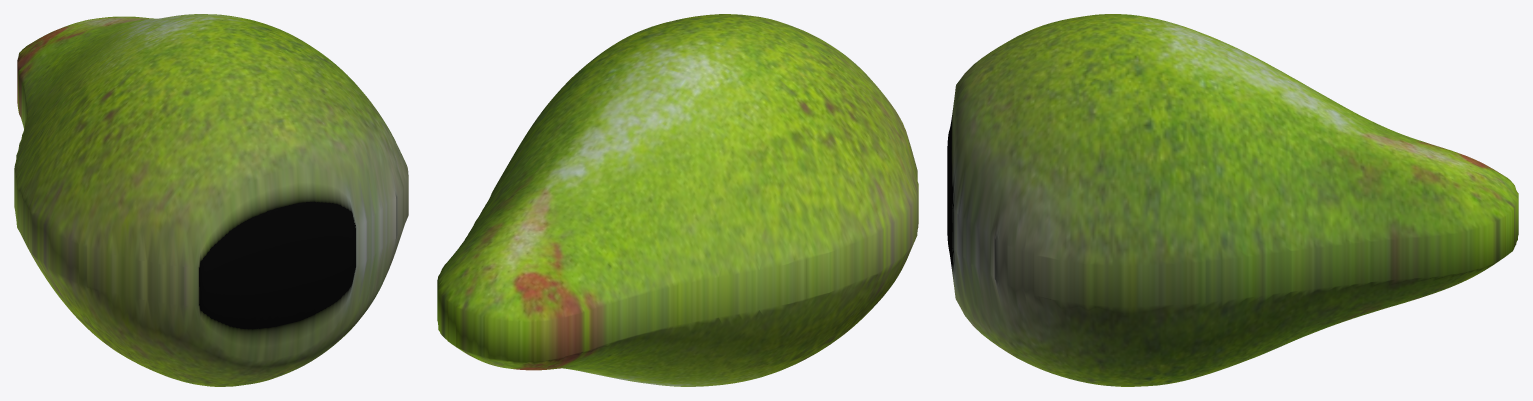
The model's file is green pear_3_1.obj.
The picture shows the model from 3 angles, left to right: view 1: azimuth 30°, elevation 25°; view 2: azimuth 150°, elevation 25°; view 3: azimuth 270°, elevation 25°; orthographic projection. The views are drawn at different scales.
Visible parts, largest first — view 1: Grid; view 2: Grid; view 3: Grid.
Boxes of the visible parts, left/top/right/bottom form: Grid: left=14, top=14, right=408, bottom=386; Grid: left=437, top=14, right=918, bottom=386; Grid: left=947, top=14, right=1518, bottom=386.
Size of the model in its own units: 1.31 by 1.2 by 1.82.
1 material, 1 textured.
